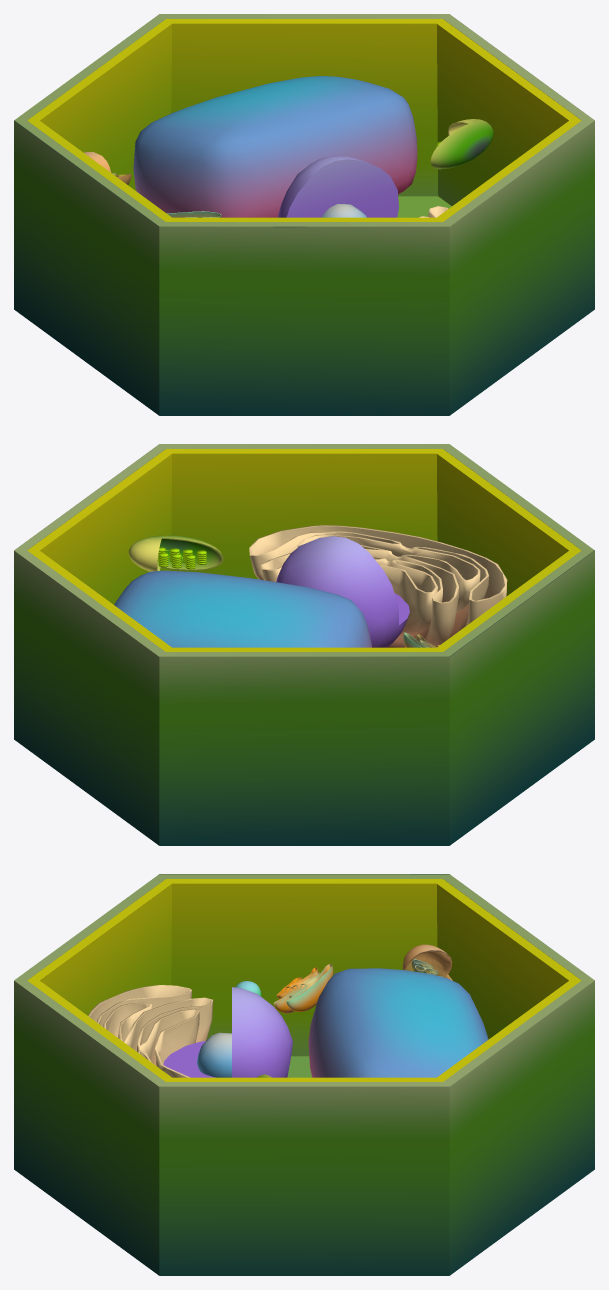
Rendered from SANTIAGO_AMORES_CEL.LULA_VEGETAL.fbx.
3 renders of one model, top to bottom at view 1: azimuth 30°, elevation 25°; view 2: azimuth 150°, elevation 25°; view 3: azimuth 270°, elevation 25°, orthographic.
Parts seen in each view (by area): view 1: PARED CELULAR, MEMBRANA CELULAR, FUNDA GAFAS, NÚCLEO, CLOROPLASTO; view 2: PARED CELULAR, MEMBRANA CELULAR, FUNDA GAFAS, RETÍCULO ENDOPLASMÁTICO, NÚCLEO, CLOROPLASTO, iNTERIOR CLORPLASTO; view 3: PARED CELULAR, MEMBRANA CELULAR, FUNDA GAFAS, RETÍCULO ENDOPLASMÁTICO, NÚCLEO, APARATO DE GOLGI, LISOSOMA.001, MITOCONDRIA.
Boxes of the visible parts, <box> form: PARED CELULAR: <box>14,14,594,415</box>; MEMBRANA CELULAR: <box>27,19,581,221</box>; FUNDA GAFAS: <box>133,76,417,217</box>; NÚCLEO: <box>278,156,398,217</box>; CLOROPLASTO: <box>430,119,493,169</box>; PARED CELULAR: <box>14,444,594,845</box>; MEMBRANA CELULAR: <box>27,449,581,651</box>; FUNDA GAFAS: <box>114,570,371,647</box>; RETÍCULO ENDOPLASMÁTICO: <box>249,525,507,647</box>; NÚCLEO: <box>276,536,409,647</box>; CLOROPLASTO: <box>128,535,223,571</box>; iNTERIOR CLORPLASTO: <box>157,547,206,569</box>; PARED CELULAR: <box>14,874,594,1275</box>; MEMBRANA CELULAR: <box>27,879,581,1081</box>; FUNDA GAFAS: <box>308,968,488,1077</box>; RETÍCULO ENDOPLASMÁTICO: <box>88,985,213,1077</box>; NÚCLEO: <box>163,987,292,1077</box>; APARATO DE GOLGI: <box>273,964,333,1013</box>; LISOSOMA.001: <box>197,1032,231,1077</box>; MITOCONDRIA: <box>402,944,452,980</box>.
Bounding box in the file's own units: 132 × 54.78 × 153.
Materials: 12 (11 with a texture image).
